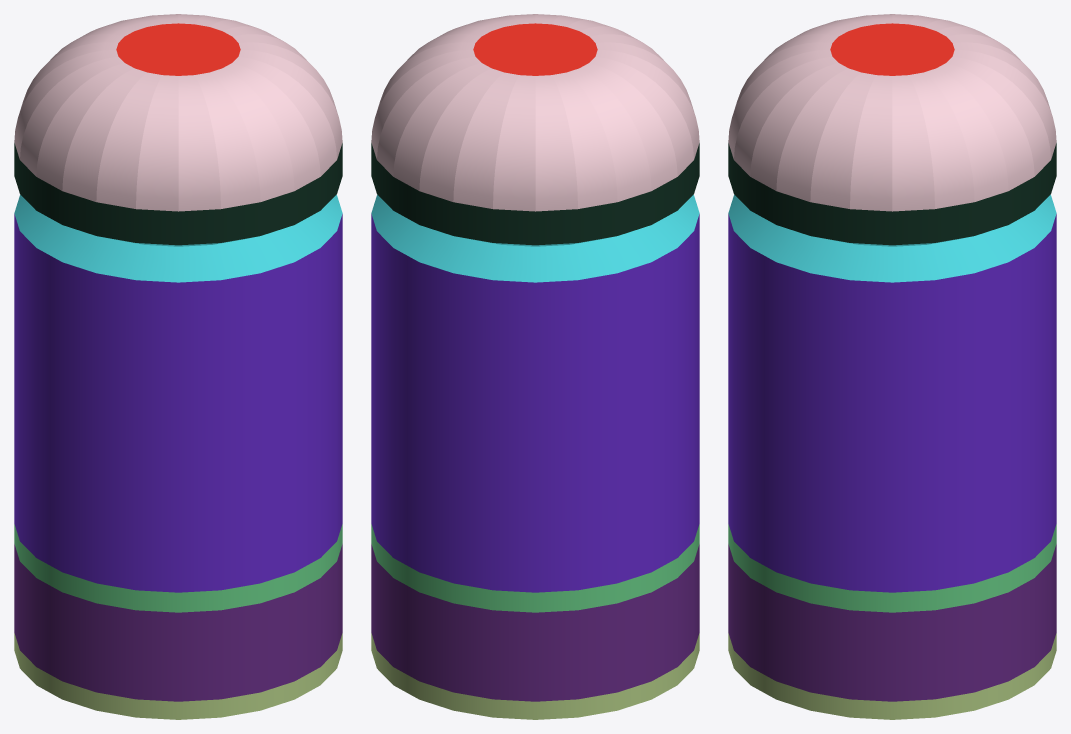
File: MoneyMaker1.fbx
3 views of the same model, side by side, from view 1: azimuth 30°, elevation 25°; view 2: azimuth 150°, elevation 25°; view 3: azimuth 270°, elevation 25° (orthographic).
Parts seen in each view (by area): view 1: Model; view 2: Model; view 3: Model.
Boxes of the visible parts, left/top/right/bottom form: Model: left=14, top=14, right=342, bottom=719; Model: left=371, top=14, right=699, bottom=719; Model: left=728, top=14, right=1056, bottom=719.
Bounding box in the file's own units: 384 × 775 × 384.
